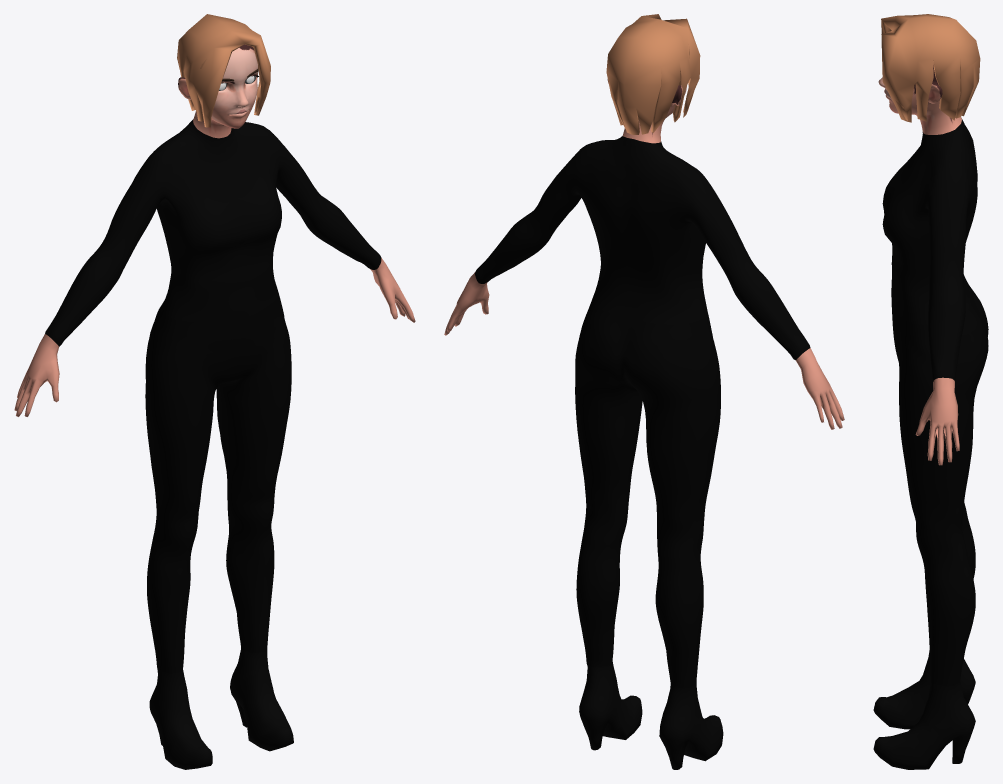
File: Luce.obj
The picture shows the model from 3 angles, left to right: view 1: azimuth 30°, elevation 25°; view 2: azimuth 150°, elevation 25°; view 3: azimuth 270°, elevation 25°; orthographic projection.
Visible parts, largest first — view 1: Luce; view 2: Luce; view 3: Luce.
Boxes of the visible parts, box(x1,y1,x2,y2) form: Luce: box(14, 14, 415, 769); Luce: box(444, 14, 844, 769); Luce: box(873, 14, 988, 769).
Size of the model in its own units: 1 by 1.75 by 0.2515.
